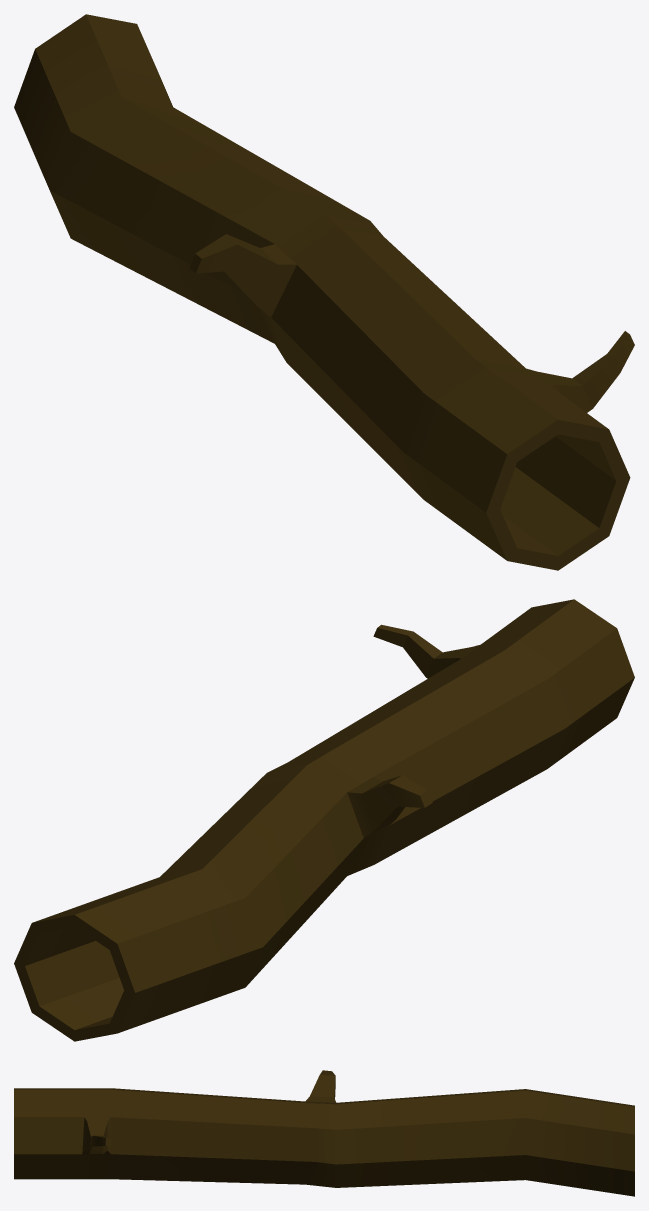
File: stump_hollow_002.fbx
3 views of the same model, one above another, from view 1: azimuth 30°, elevation 25°; view 2: azimuth 150°, elevation 25°; view 3: azimuth 270°, elevation 25° (orthographic). The views are drawn at different scales.
Visible parts, largest first — view 1: stump_hollow_002; view 2: stump_hollow_002; view 3: stump_hollow_002.
Part boxes in pixels (left/top/right/bottom): stump_hollow_002: left=14, top=14, right=634, bottom=570; stump_hollow_002: left=14, top=599, right=634, bottom=1041; stump_hollow_002: left=14, top=1070, right=634, bottom=1196.
Size of the model in its own units: 4.7 by 17.21 by 2.69.
